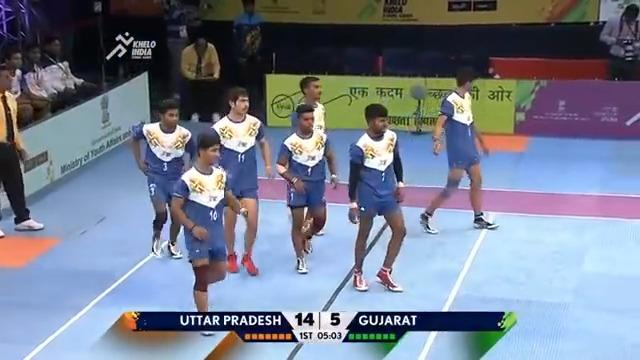Player: (169, 128, 242, 336), (418, 65, 499, 234), (209, 86, 273, 276), (346, 102, 407, 292), (129, 97, 196, 259), (275, 103, 338, 273), (289, 75, 328, 237)
referee: (0, 66, 44, 237), (230, 0, 270, 123), (178, 23, 221, 121), (599, 2, 639, 80), (231, 0, 265, 64), (179, 36, 220, 80)
